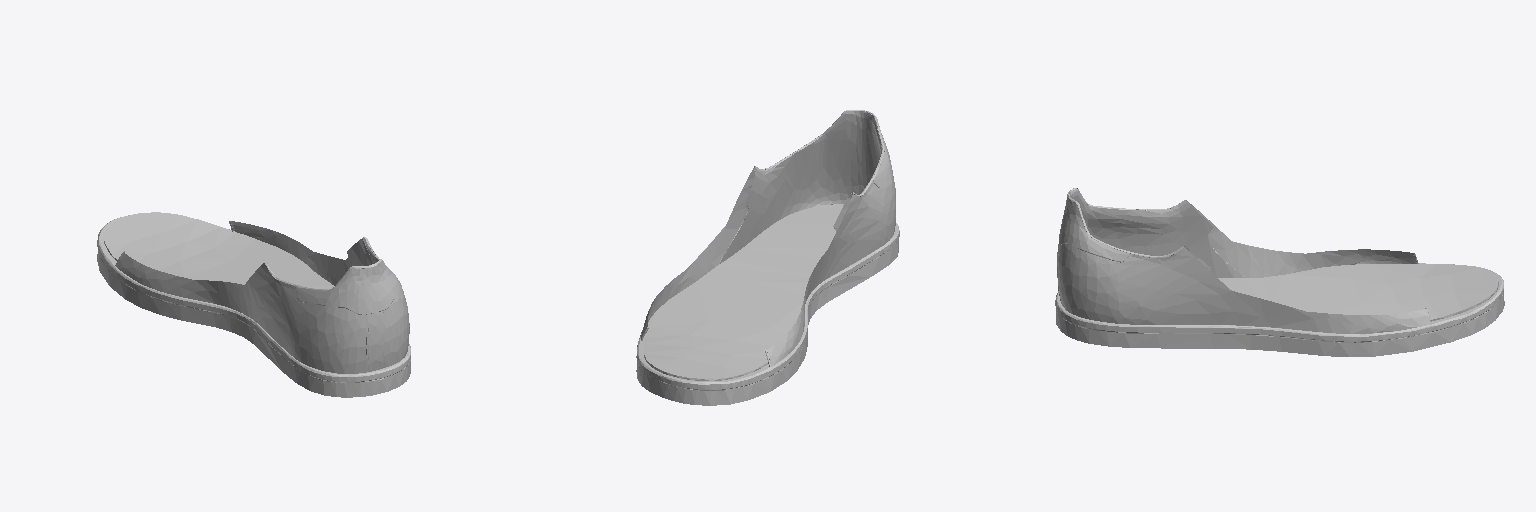
The model's file is stansmith_simplified_sole.obj.
3 renders of one model, left to right at view 1: azimuth 30°, elevation 25°; view 2: azimuth 150°, elevation 25°; view 3: azimuth 270°, elevation 25°, orthographic.
Parts seen in each view (by area): view 1: Stan_Smith_Simplified_Sole; view 2: Stan_Smith_Simplified_Sole; view 3: Stan_Smith_Simplified_Sole.
Boxes of the visible parts, x1,y1,x2,y2 form: Stan_Smith_Simplified_Sole: [97, 212, 410, 397]; Stan_Smith_Simplified_Sole: [636, 110, 899, 405]; Stan_Smith_Simplified_Sole: [1055, 188, 1504, 356].
Size of the model in its own units: 1.1 by 0.9215 by 2.84.